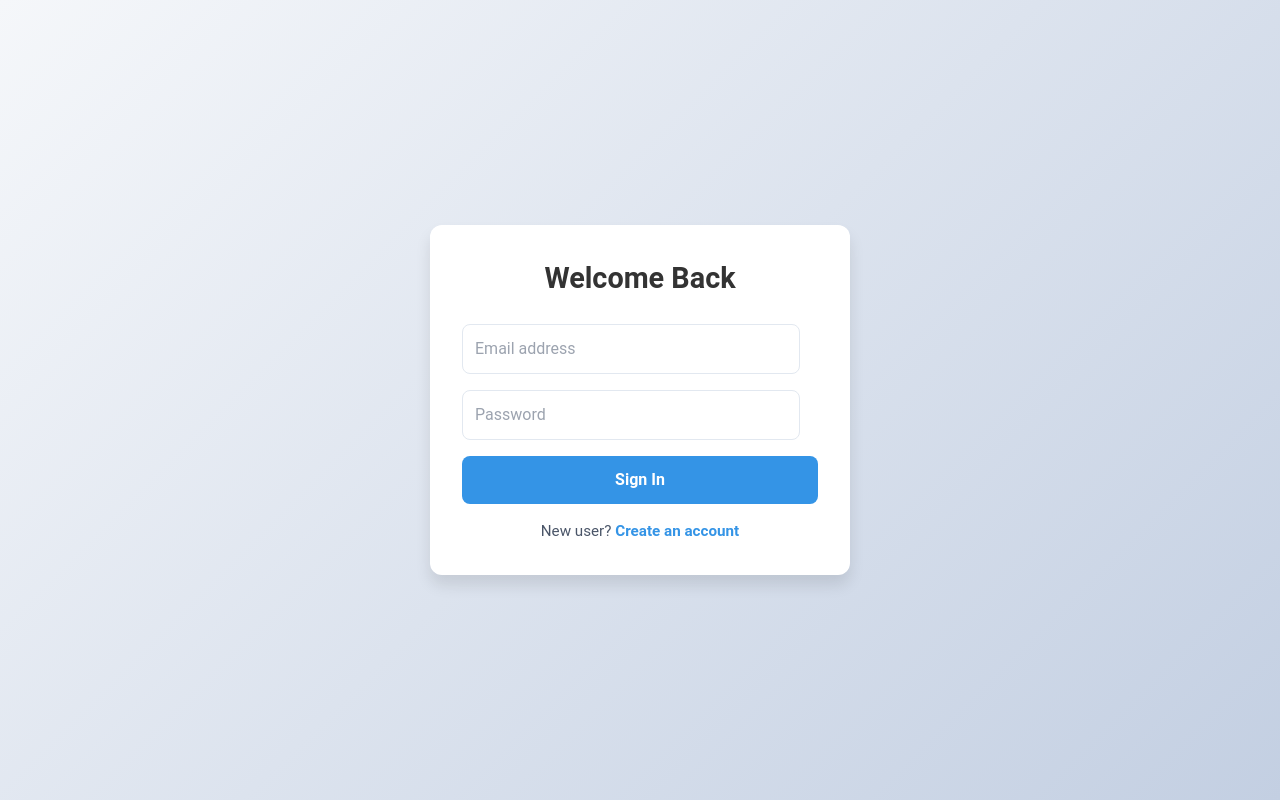
Test case: Login Component › displays error message on failed login
In the field with placeholder "Email address": (631, 349) [462,324,800,374], type "test@example.com"
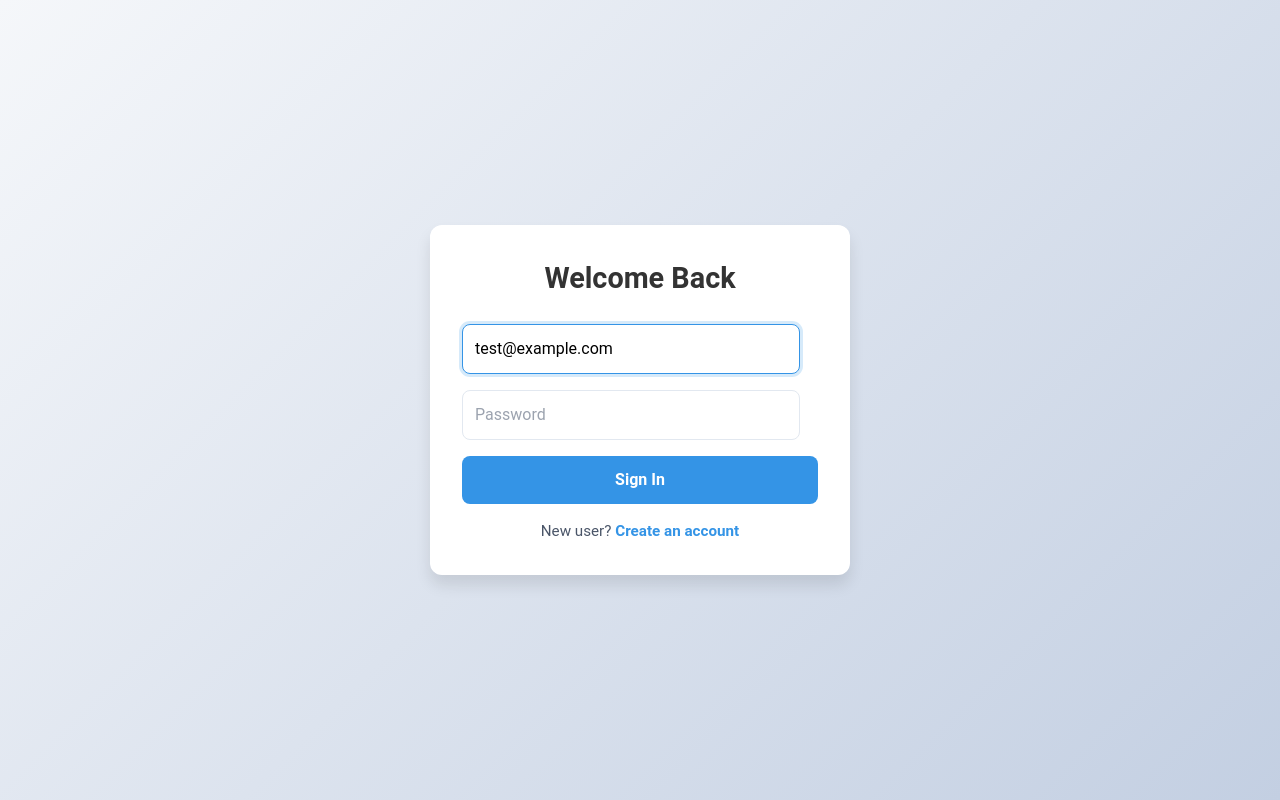
In the password field with placeholder "Password": (631, 415) [462,390,800,440], type "password123"
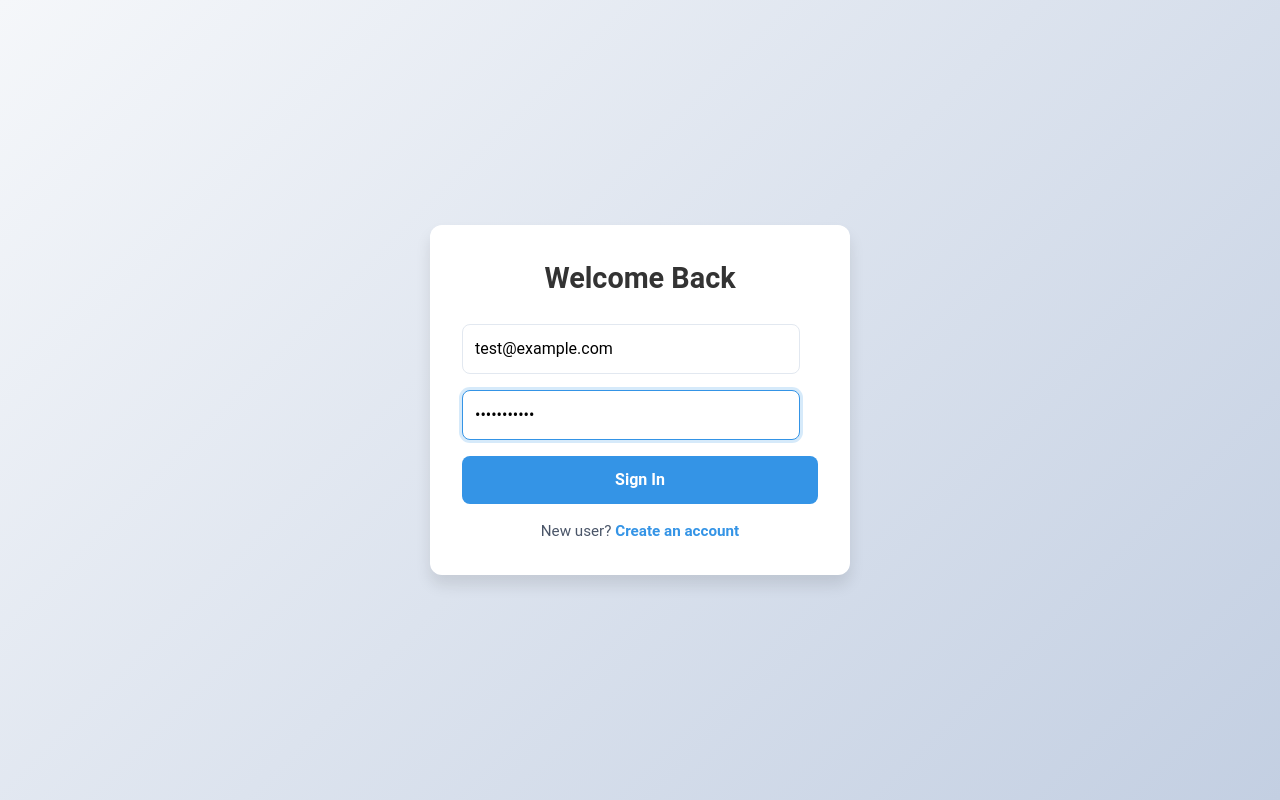
Click the button "Sign In": (640, 480) [462,456,818,504]
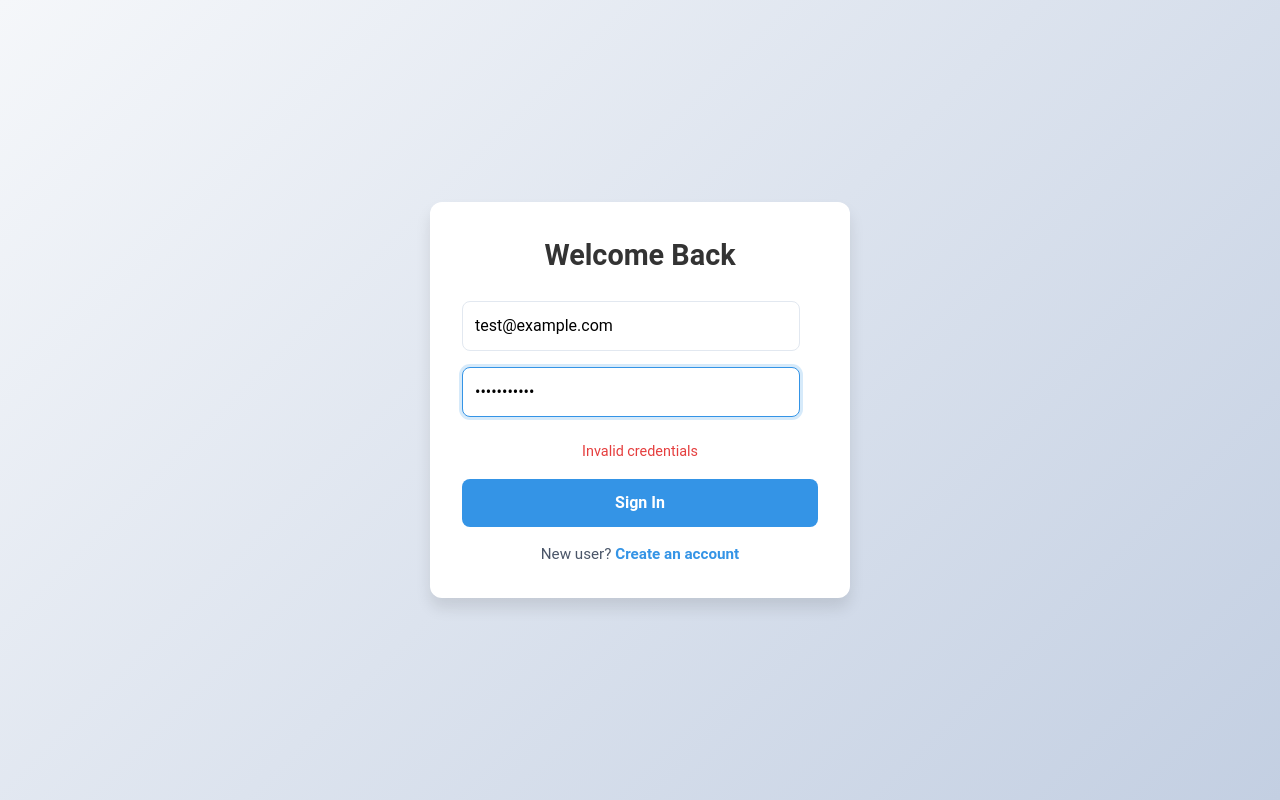
Expected: the text "Invalid credentials" is shown, [582,443,698,460]
